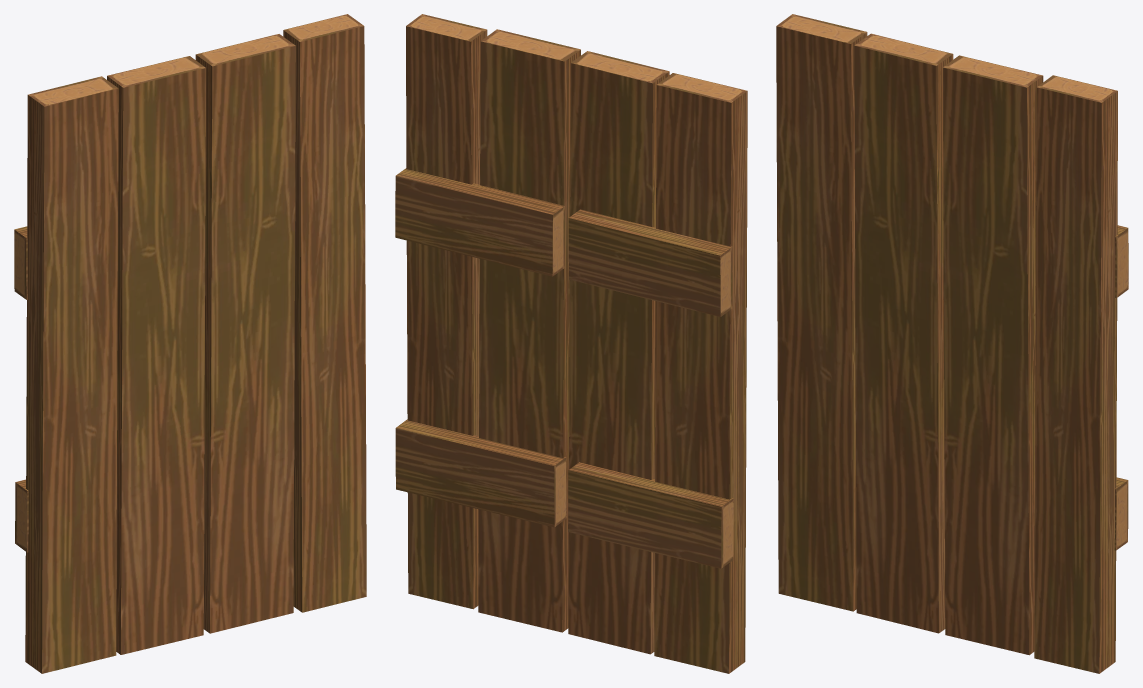
Rendered from WindowShutters_Thin_Flat_Closed.gltf.
The picture shows the model from 3 angles, left to right: view 1: azimuth 30°, elevation 25°; view 2: azimuth 150°, elevation 25°; view 3: azimuth 330°, elevation 25°; orthographic projection.
Parts seen in each view (by area): view 1: WindowShutters_Thin_Flat_Closed; view 2: WindowShutters_Thin_Flat_Closed; view 3: WindowShutters_Thin_Flat_Closed.
Boxes of the visible parts, x1,y1,x2,y2 form: WindowShutters_Thin_Flat_Closed: (14, 14, 366, 673); WindowShutters_Thin_Flat_Closed: (395, 14, 747, 673); WindowShutters_Thin_Flat_Closed: (776, 14, 1128, 673).
Bounding box in the file's own units: 0.8518 × 1.42 × 0.1358.
1 material, 1 textured.
